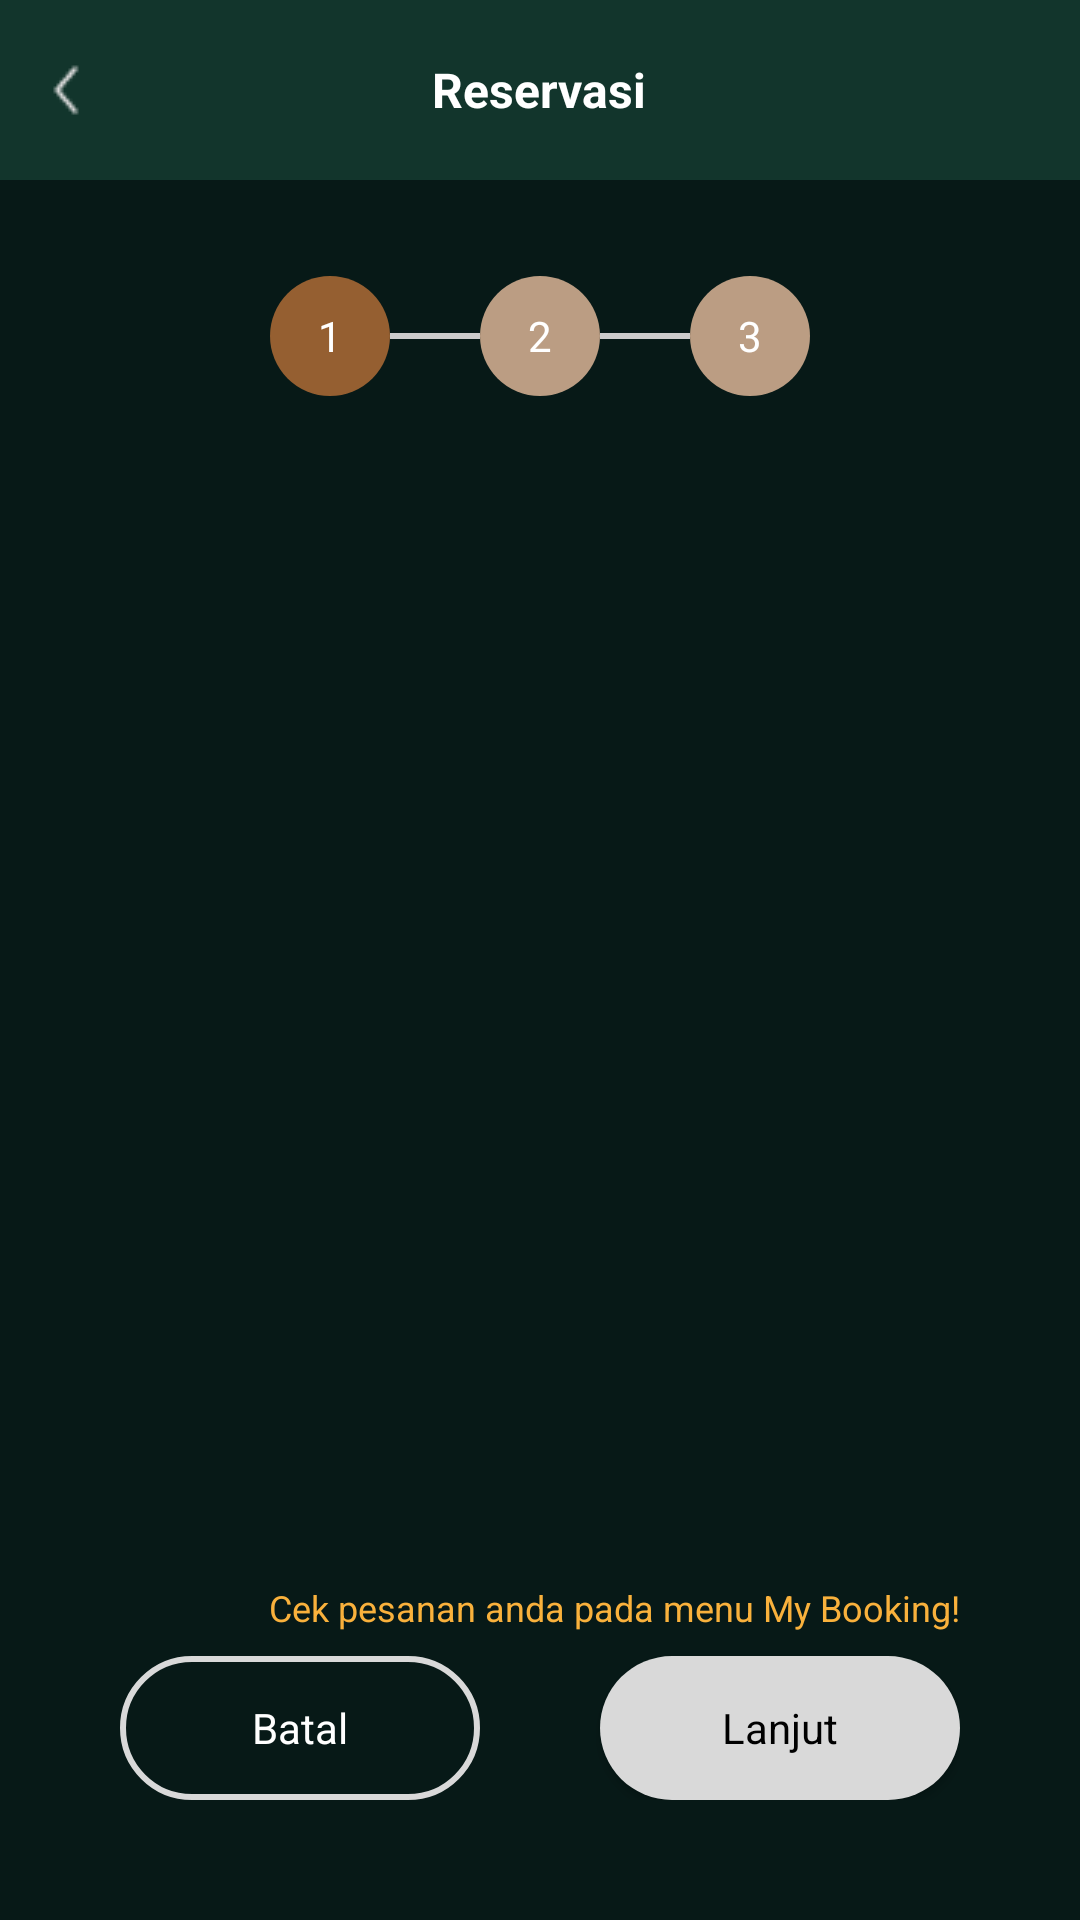

Icons on this 1080px×1920px Android screen, each with the point to tap as (x,y):
back: (66,90)
